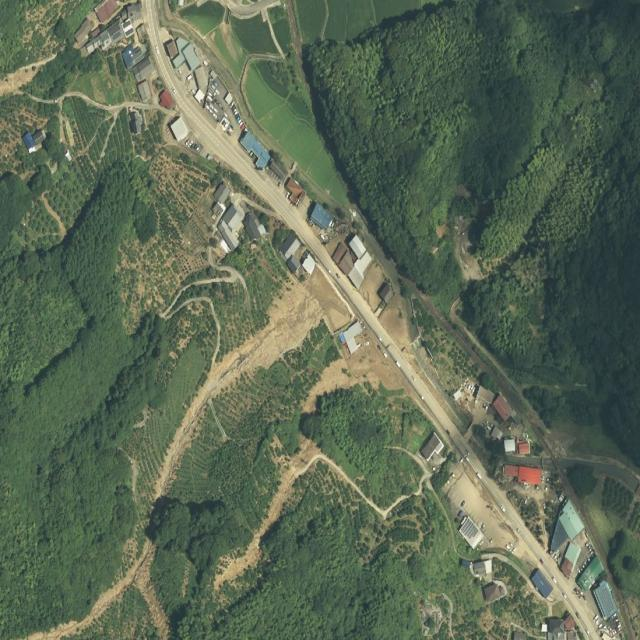landslide: (156, 285, 325, 499)
